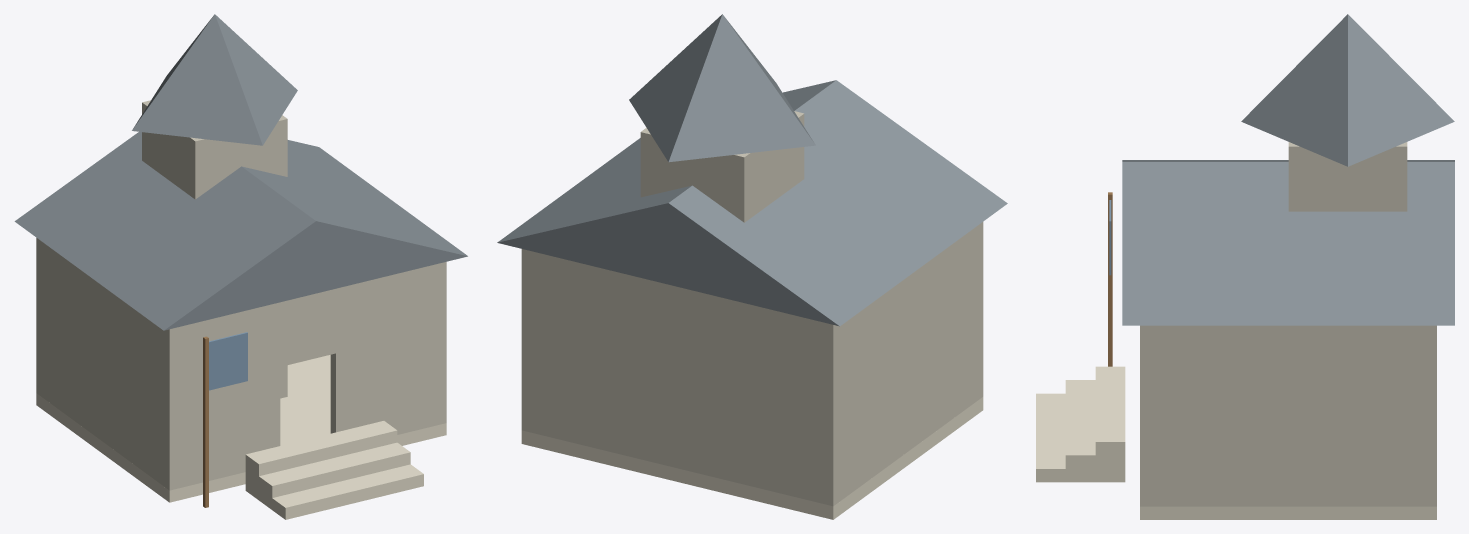
File: town-hall.glb
The picture shows the model from 3 angles, left to right: view 1: azimuth 30°, elevation 25°; view 2: azimuth 150°, elevation 25°; view 3: azimuth 270°, elevation 25°; orthographic projection. The views are drawn at different scales.
Visible parts, largest first — view 1: town-hall; view 2: town-hall; view 3: town-hall.
Boxes of the visible parts, x1,y1,x2,y2 form: town-hall: (14, 14, 467, 519); town-hall: (497, 14, 1007, 519); town-hall: (1036, 14, 1454, 519).
Bounding box in the file's own units: 6.6 × 8 × 7.05.
